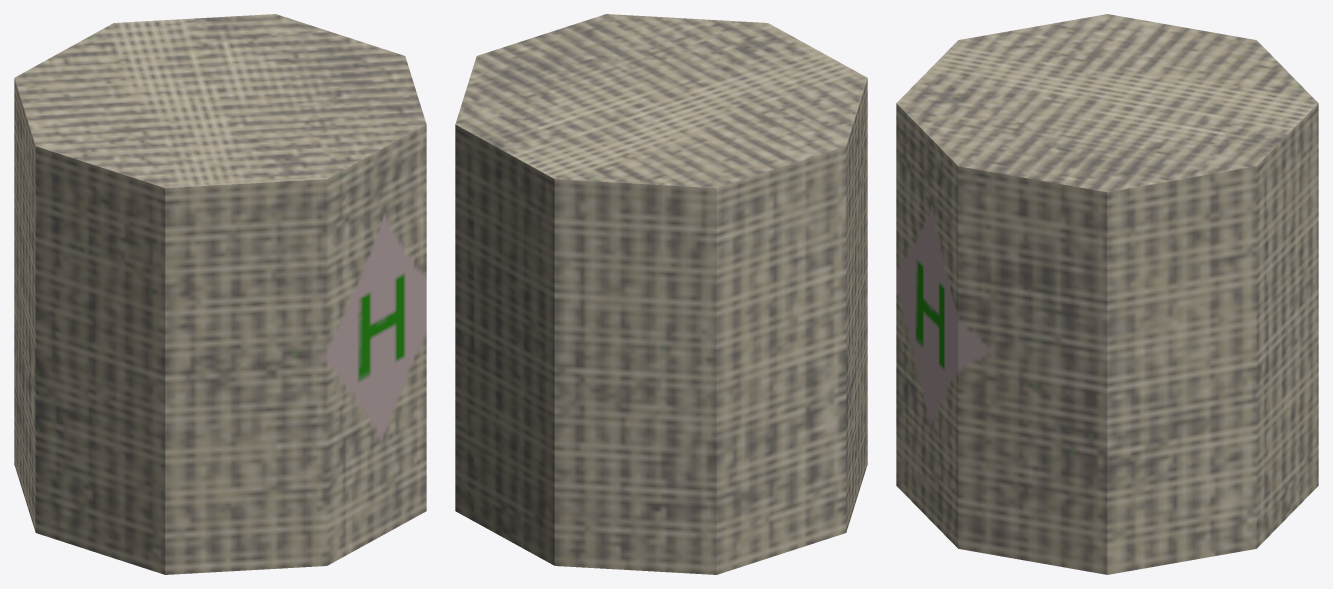
The model's file is bandage.fbx.
3 views of the same model, side by side, from view 1: azimuth 30°, elevation 25°; view 2: azimuth 150°, elevation 25°; view 3: azimuth 270°, elevation 25° (orthographic).
Parts seen in each view (by area): view 1: bandage; view 2: bandage; view 3: bandage.
Boxes of the visible parts, <box> form: bandage: <box>14,14,426,574</box>; bandage: <box>455,14,867,574</box>; bandage: <box>896,14,1318,574</box>.
Bounding box in the file's own units: 8 × 8 × 8.
Materials: 1 (1 with a texture image).
